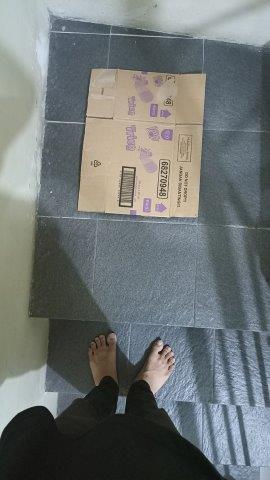kardus: (78, 71, 205, 217)
